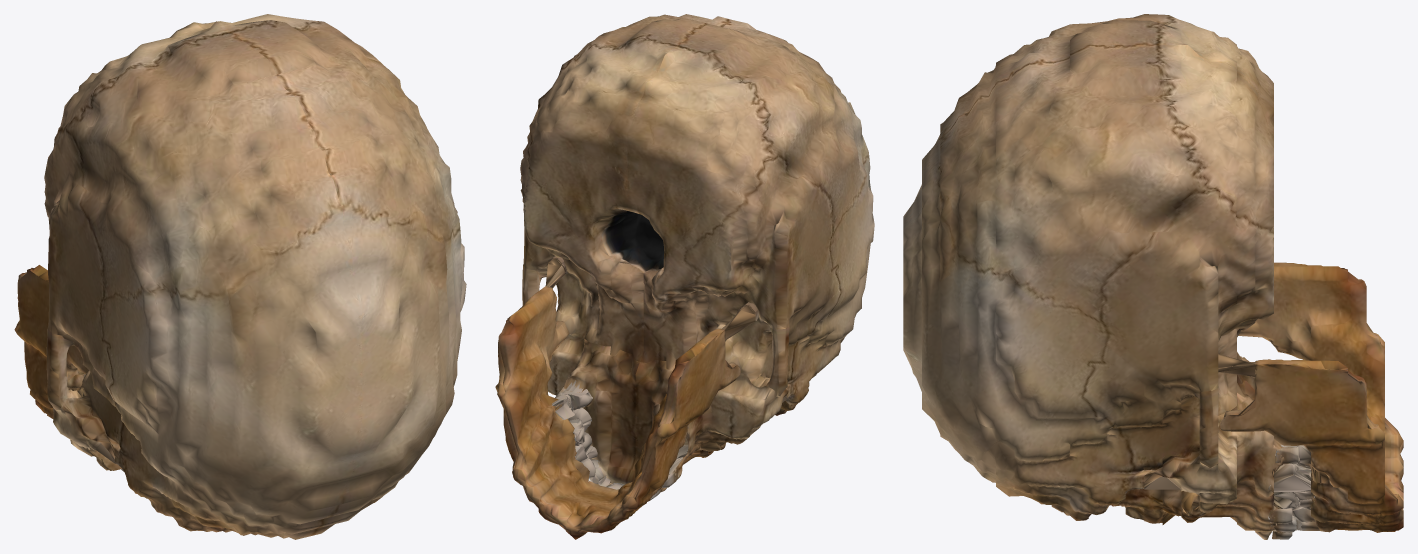
The model's file is calavera_gltf_shrinkwrapped.glb.
3 renders of one model, left to right at view 1: azimuth 30°, elevation 25°; view 2: azimuth 150°, elevation 25°; view 3: azimuth 270°, elevation 25°, orthographic. The views are drawn at different scales.
Parts seen in each view (by area): view 1: Original; view 2: Original; view 3: Original.
Part boxes in pixels (x1,y1,x2,y2): Original: (14,14,466,539); Original: (495,14,874,539); Original: (903,14,1403,539).
Bounding box in the file's own units: 19.43 × 29.66 × 27.61.
Materials: 1 (1 with a texture image).
